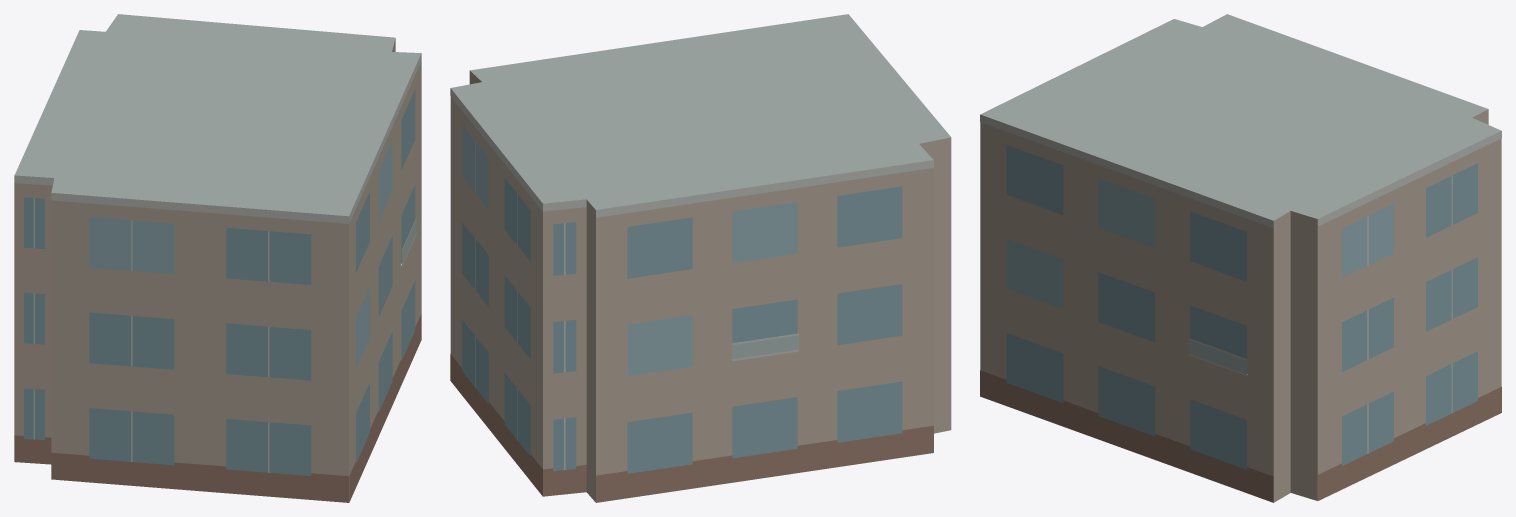
File: survey-upis-32667550.glb
3 views of the same model, side by side, from view 1: azimuth 30°, elevation 25°; view 2: azimuth 150°, elevation 25°; view 3: azimuth 270°, elevation 25° (orthographic). The views are drawn at different scales.
Parts seen in each view (by area): view 1: survey-upis-32667550.tmp; view 2: survey-upis-32667550.tmp; view 3: survey-upis-32667550.tmp.
Boxes of the visible parts, x1,y1,x2,y2 form: survey-upis-32667550.tmp: (14,14,421,502); survey-upis-32667550.tmp: (450,14,951,502); survey-upis-32667550.tmp: (980,14,1501,502).
Bounding box in the file's own units: 14.4 × 9.15 × 15.35.
